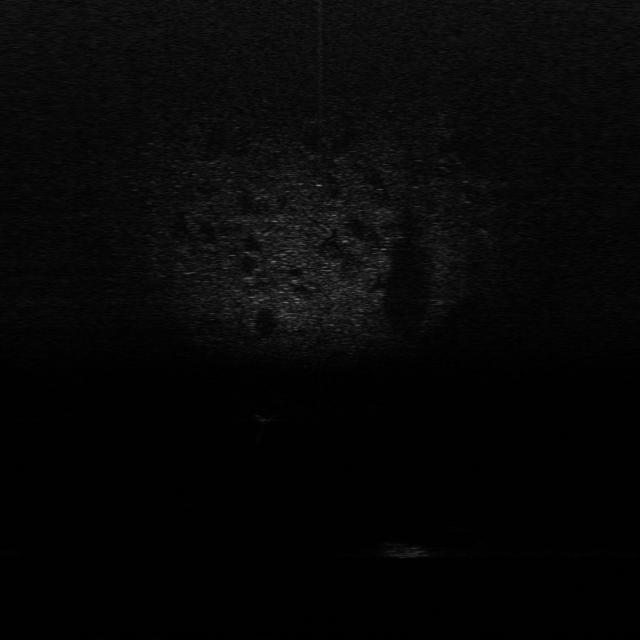ball: (252, 402, 279, 423)
metal bucket: (382, 537, 436, 560)
